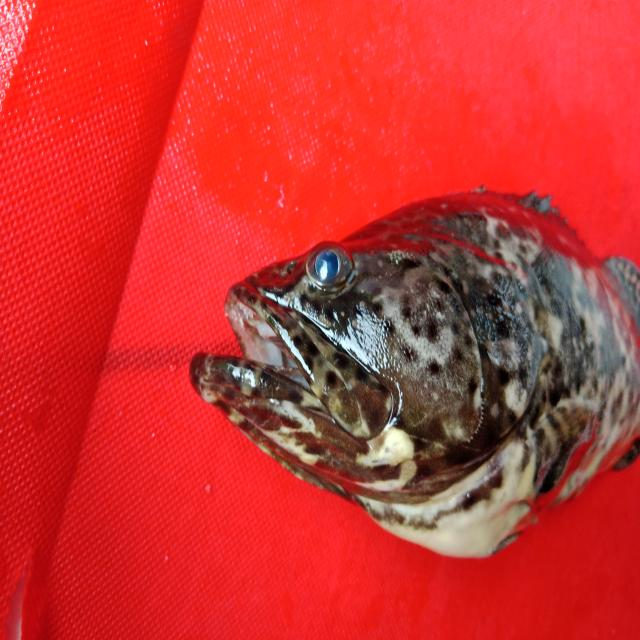ikan: (179, 173, 629, 566)
